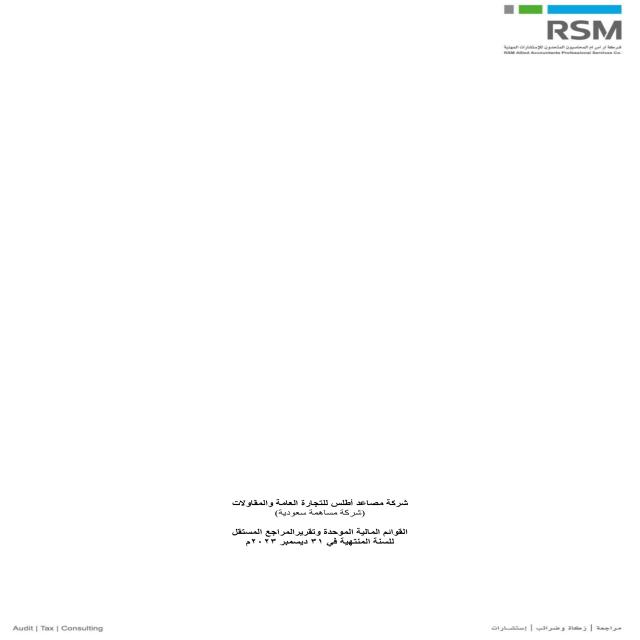other: (158, 362, 464, 614)
